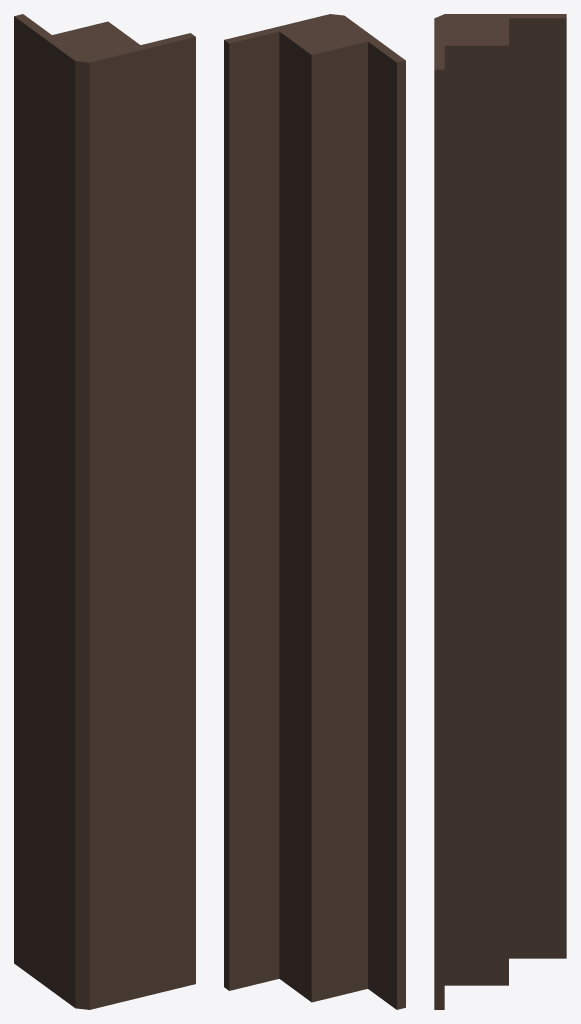
File: timber_corner_return.glb
3 views of the same model, side by side, from view 1: azimuth 30°, elevation 25°; view 2: azimuth 210°, elevation 25°; view 3: azimuth 270°, elevation 25° (orthographic).
Parts seen in each view (by area): view 1: Timber corner return; view 2: Timber corner return; view 3: Timber corner return.
Boxes of the visible parts, x1,y1,x2,y2 form: Timber corner return: (14, 14, 195, 1009); Timber corner return: (224, 14, 405, 1009); Timber corner return: (434, 14, 566, 1009).
Size of the model in its own units: 0.191 by 1.5 by 0.191.
